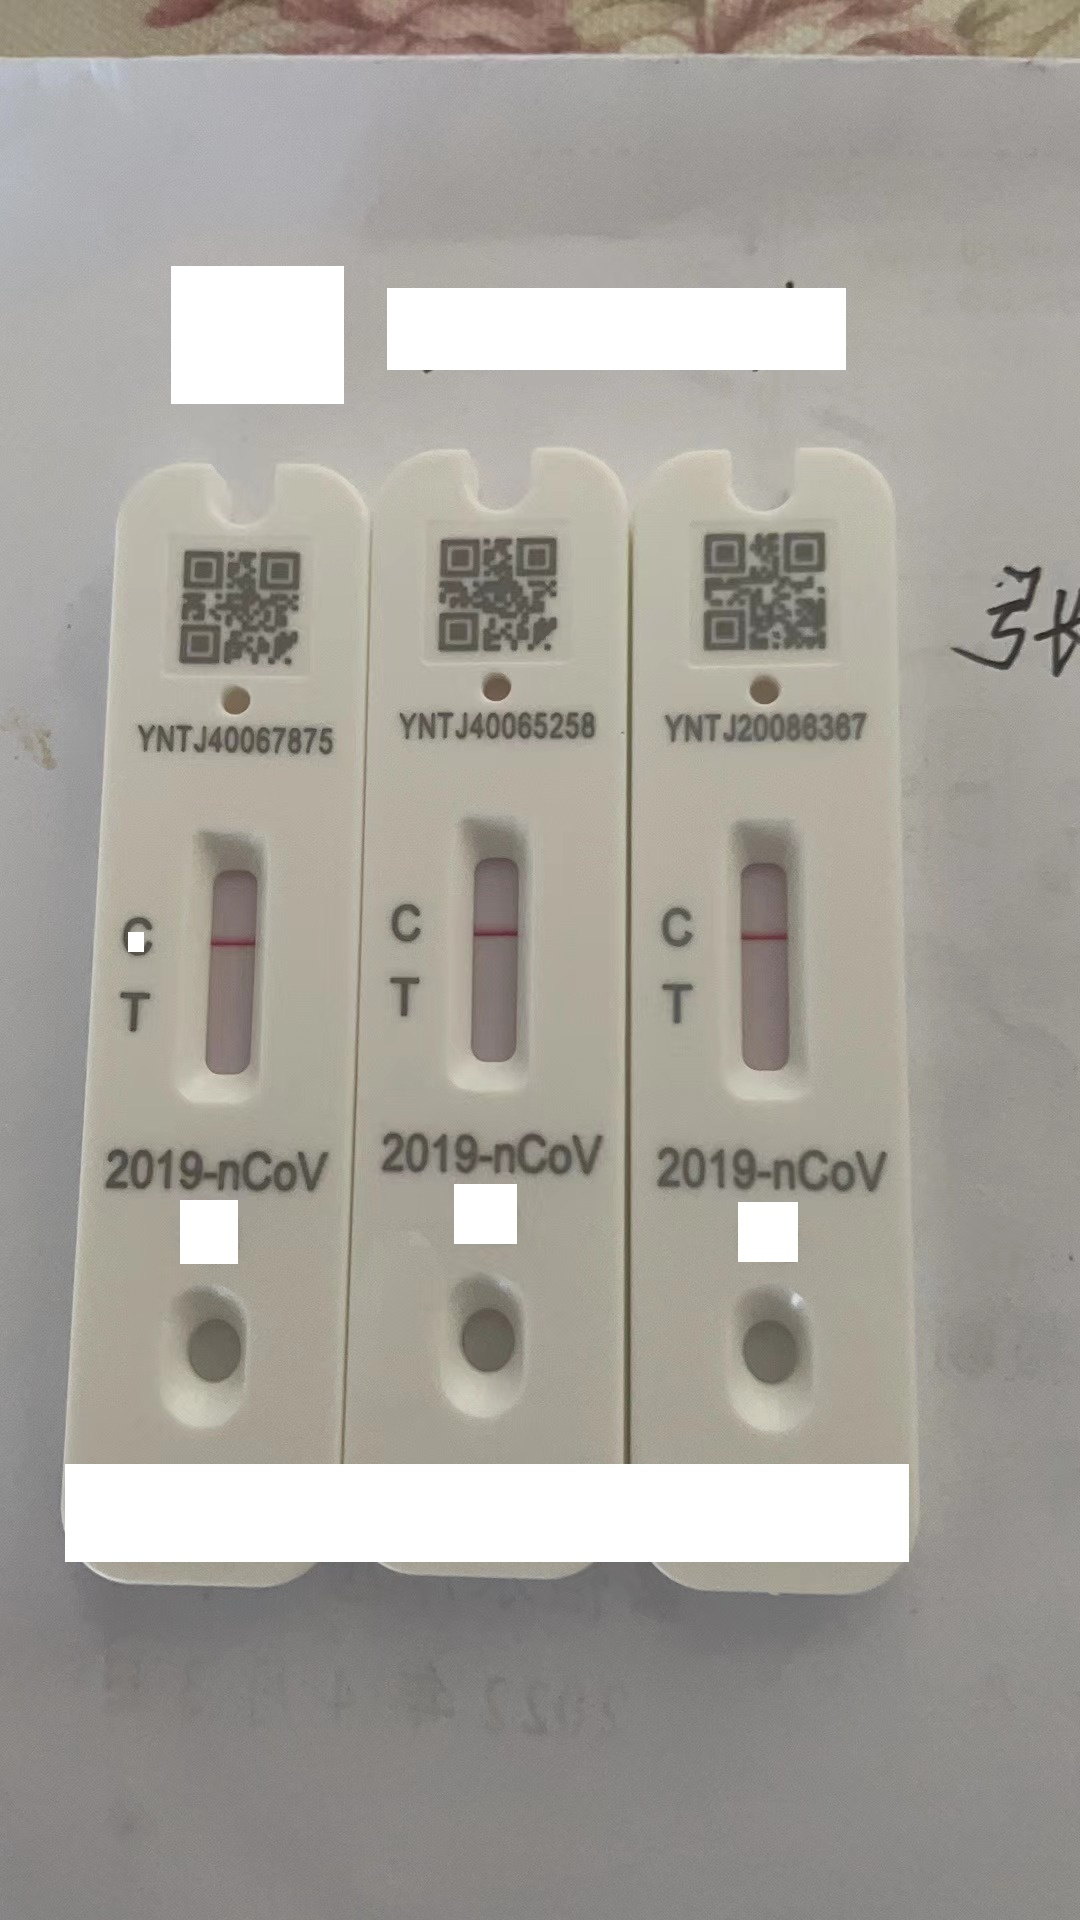negative: (721, 814, 808, 1106), (182, 829, 272, 1108), (448, 822, 534, 1095)
